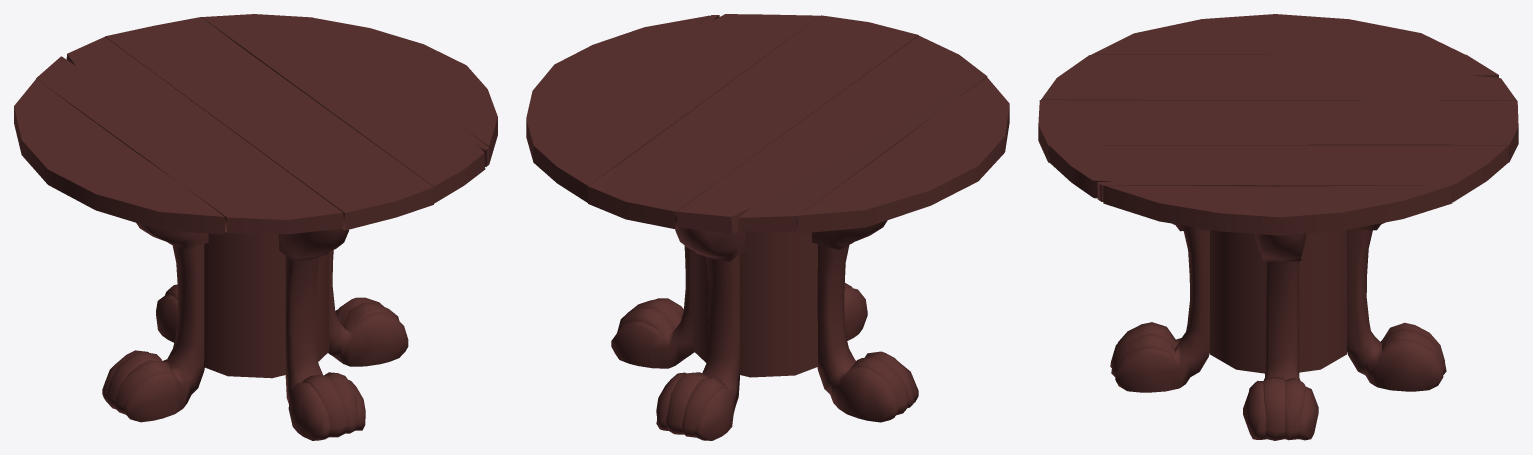
The model's file is table_ronde.fbx.
The picture shows the model from 3 angles, left to right: view 1: azimuth 30°, elevation 25°; view 2: azimuth 150°, elevation 25°; view 3: azimuth 270°, elevation 25°; orthographic projection.
Visible parts, largest first — view 1: table_ronde; view 2: table_ronde; view 3: table_ronde.
Part boxes in pixels (x1=…): table_ronde: x1=14, y1=14, x2=497, y2=440; table_ronde: x1=526, y1=14, x2=1009, y2=440; table_ronde: x1=1038, y1=14, x2=1518, y2=440.
Size of the model in its own units: 40.15 by 24.08 by 40.05.
